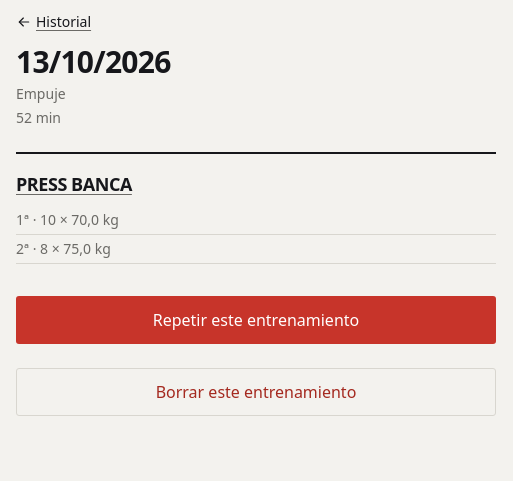
Scenario: WorkoutDetailPage › does not delete when the confirmation is cancelled
Click the button "Borrar este entrenamiento".
click(256, 392)  # box [16,368,496,416]
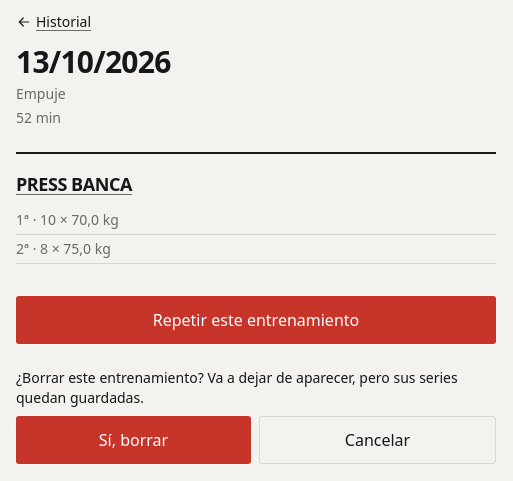
Click the button "Cancelar".
click(378, 440)  # box [259,416,496,464]
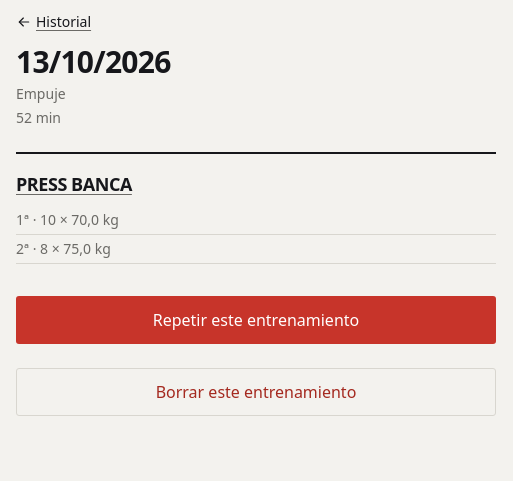
Expected: the button "Sí, borrar" is gone
